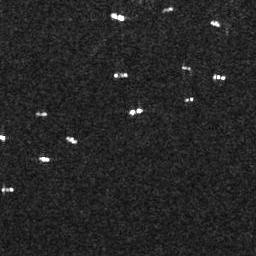ship: (110, 11, 124, 22), (128, 106, 142, 116), (113, 71, 129, 79), (212, 72, 226, 81), (66, 135, 76, 145), (210, 19, 221, 28), (38, 156, 50, 163), (161, 5, 173, 12), (181, 65, 192, 72), (184, 96, 194, 103), (2, 186, 13, 192), (36, 111, 47, 117)
